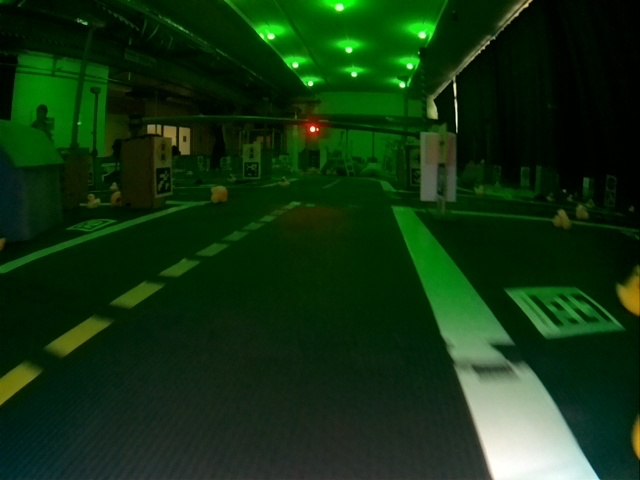Duckie: (208, 185, 228, 203), (556, 211, 572, 228), (280, 176, 288, 186)
QR code: (507, 286, 620, 338), (154, 168, 173, 195), (245, 163, 261, 179)
Signal sign: (245, 146, 261, 160)
Traffic light: (305, 124, 321, 136)
